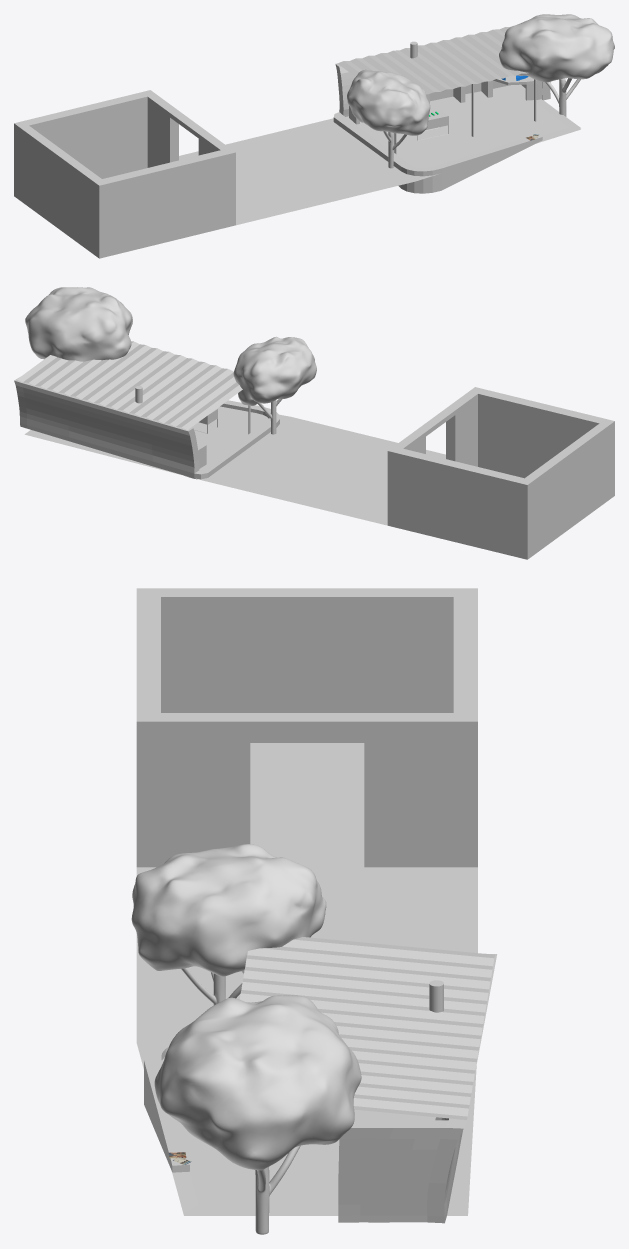
File: modelCompress.glb
3 renders of one model, top to bottom at view 1: azimuth 30°, elevation 25°; view 2: azimuth 150°, elevation 25°; view 3: azimuth 270°, elevation 25°, orthographic. The views are drawn at different scales.
Visible parts, largest first — view 1: Plane.004, Plane, 10448_Purple_Leaf_Plum_Tree_v1_Iteration2.001, Plane.001, 10448_Purple_Leaf_Plum_Tree_v1_Iteration2, Cube, Cube.002; view 2: Plane.004, Plane, Plane.001, 10448_Purple_Leaf_Plum_Tree_v1_Iteration2.001, 10448_Purple_Leaf_Plum_Tree_v1_Iteration2; view 3: Plane.004, Plane.001, 10448_Purple_Leaf_Plum_Tree_v1_Iteration2.001, Plane, 10448_Purple_Leaf_Plum_Tree_v1_Iteration2.
Boxes of the visible parts, x1,y1,x2,y2 form: Plane.004: (14,90,580,258); Plane: (333,63,580,193); 10448_Purple_Leaf_Plum_Tree_v1_Iteration2.001: (499,14,614,116); Plane.001: (337,26,528,94); 10448_Purple_Leaf_Plum_Tree_v1_Iteration2: (347,69,430,168); Cube: (349,76,542,124); Cube.002: (417,109,448,140); Plane.004: (24,387,614,559); Plane: (14,377,279,479); Plane.001: (17,341,242,429); 10448_Purple_Leaf_Plum_Tree_v1_Iteration2.001: (25,287,132,361); 10448_Purple_Leaf_Plum_Tree_v1_Iteration2: (233,336,316,434); Plane.004: (136,588,477,1215); Plane.001: (239,937,494,1119); 10448_Purple_Leaf_Plum_Tree_v1_Iteration2.001: (154,995,361,1234); Plane: (144,953,497,1223); 10448_Purple_Leaf_Plum_Tree_v1_Iteration2: (131,844,326,1005).
Bounding box in the file's own units: 25.46 × 5.14 × 7.46.
8 materials, 2 textured.
